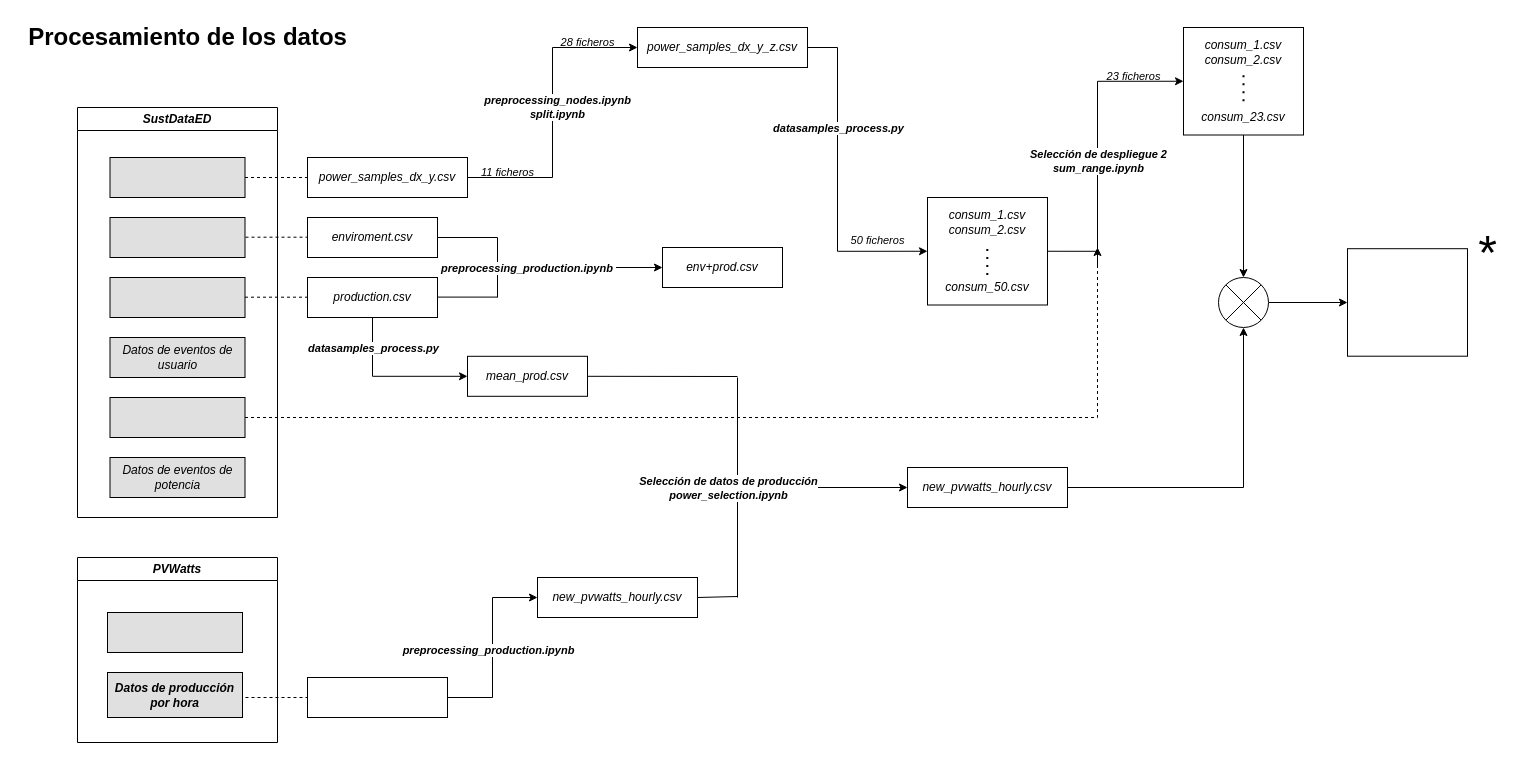
This 1524x760 diagram has some shape labels left out. Here are the shapes that lost their labels. From the top down, the centre of each, then its label:
the point at 177,177: Datos de consumo
the point at 177,237: Datos climáticos y ambientales
the point at 177,297: Datos de producción
the point at 1407,302: load_1.csv load _2.csv load _23.csv
the point at 177,417: Datos demográficos
the point at 174,632: Datos de producción mensuales
the point at 377,697: pvwatts_hourly.csv
